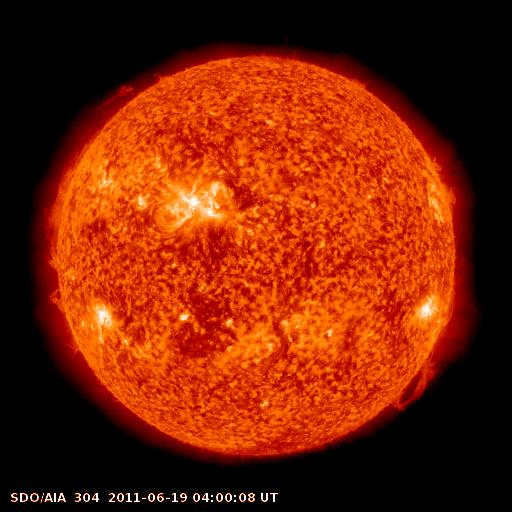prominence: (36, 123, 108, 270), (380, 349, 449, 416), (427, 151, 464, 213), (86, 81, 139, 114), (35, 282, 71, 317)
